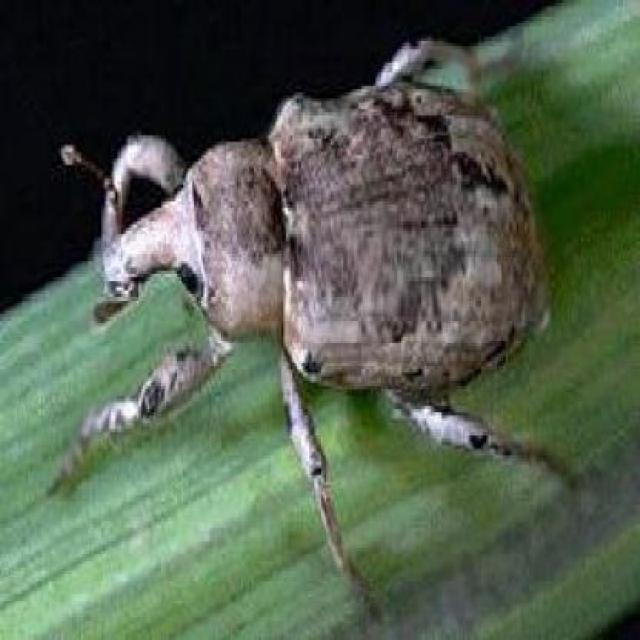rice-bug: (77, 34, 543, 486)
